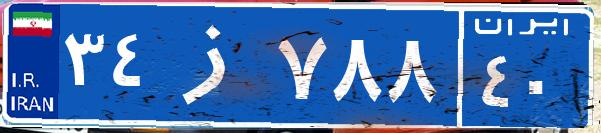0: (525, 38, 570, 115)
3: (57, 26, 110, 107)
4: (475, 38, 525, 113), (110, 28, 158, 105)
7: (273, 28, 330, 110)
8: (385, 28, 445, 110), (330, 28, 385, 110)
ز: (158, 15, 273, 115)
